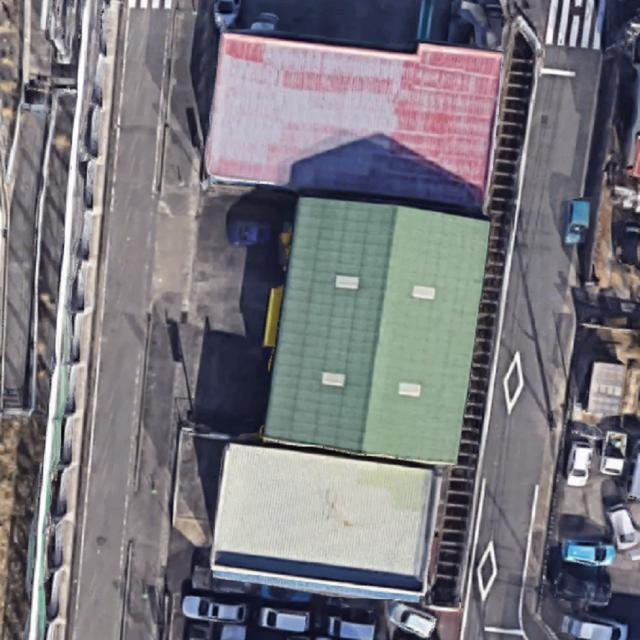Batiment: (264, 198, 489, 463), (206, 32, 501, 208), (212, 444, 436, 602)
